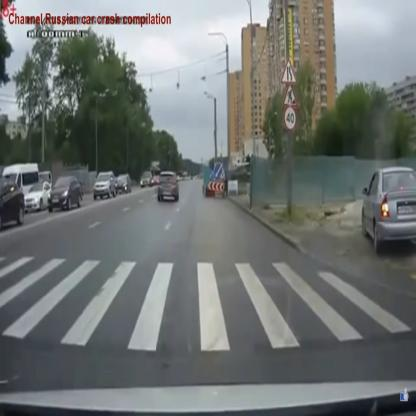crosswalk: (0, 256, 416, 350)
